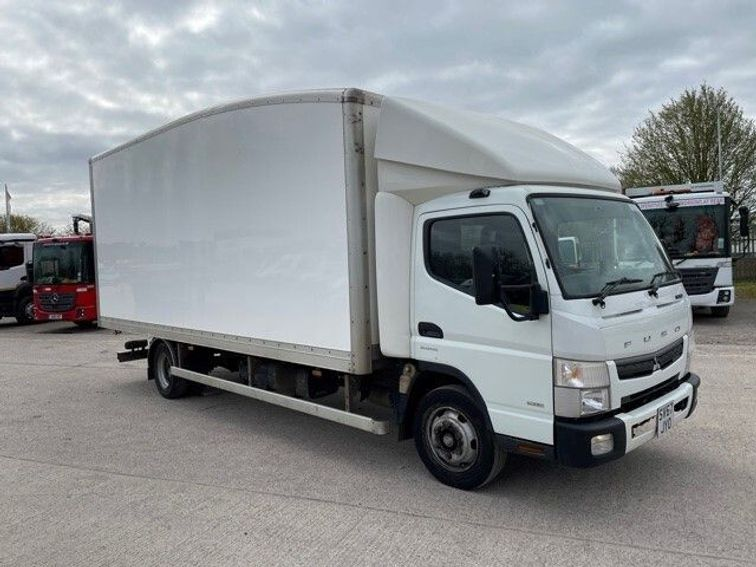Semi: (86, 86, 699, 489)
